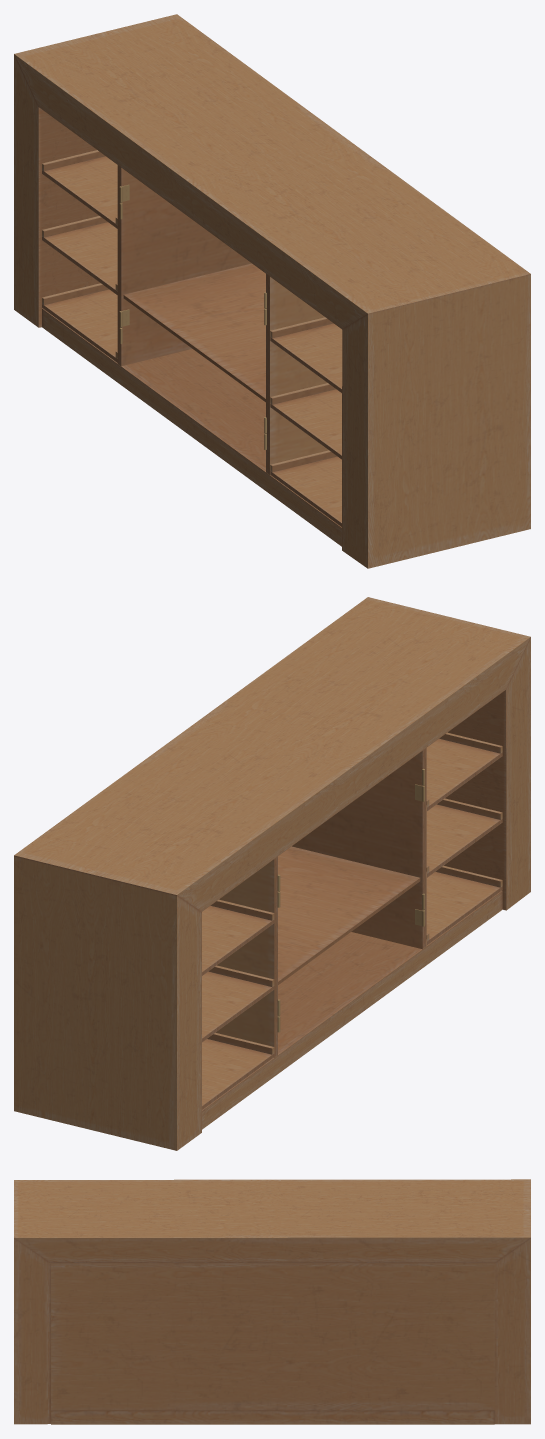
File: SM_Shelf_TV_A1.fbx
3 renders of one model, top to bottom at view 1: azimuth 30°, elevation 25°; view 2: azimuth 150°, elevation 25°; view 3: azimuth 270°, elevation 25°, orthographic. The views are drawn at different scales.
Parts seen in each view (by area): view 1: SM_Shelf_TV_A1; view 2: SM_Shelf_TV_A1; view 3: SM_Shelf_TV_A1.
Part boxes in pixels (x1=…): SM_Shelf_TV_A1: x1=14, y1=14, x2=530, y2=568; SM_Shelf_TV_A1: x1=14, y1=597, x2=530, y2=1150; SM_Shelf_TV_A1: x1=14, y1=1179, x2=530, y2=1424.
Size of the model in its own units: 47.89 by 179 by 71.41.
1 material, 1 textured.
